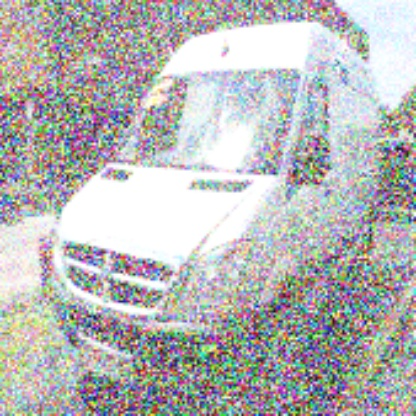Vehicle: (48, 22, 384, 415)
